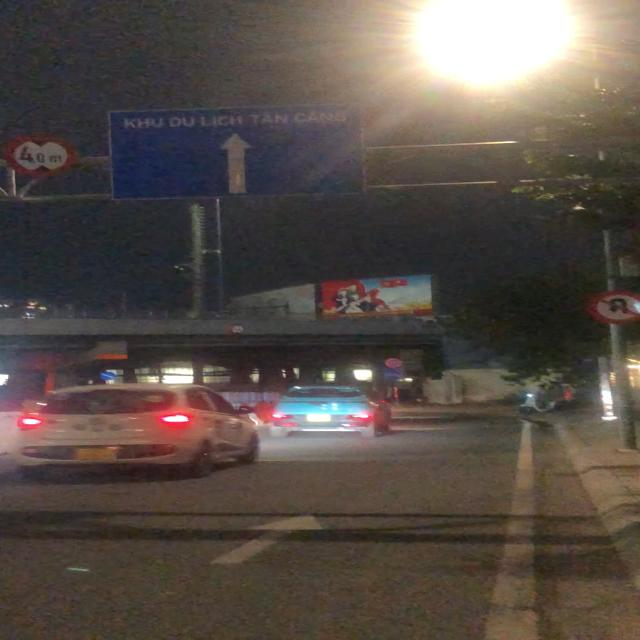Bien bao cam quay dau xe: (584, 288, 640, 324)
Bien bao han che chieu cao: (3, 134, 81, 178)
